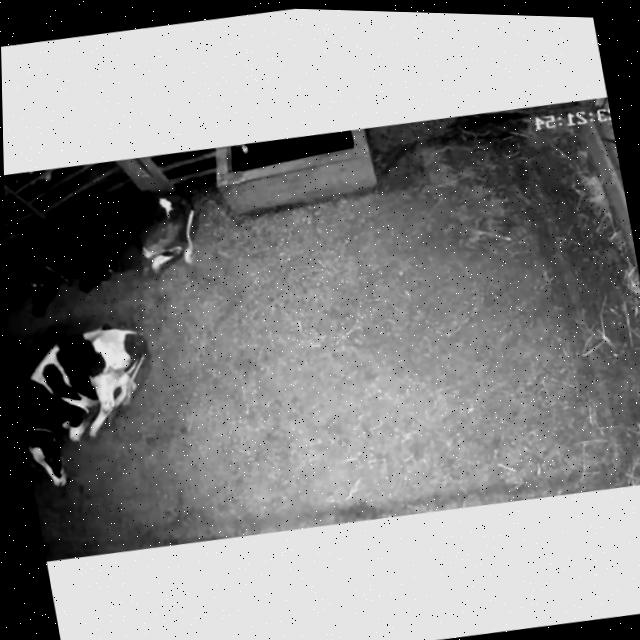lay: (4, 166, 221, 331), (7, 307, 176, 508)
